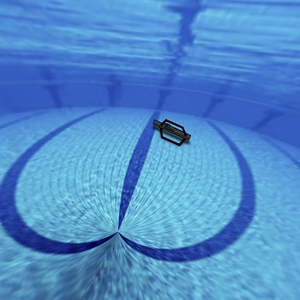submarine: (139, 103, 197, 160)
